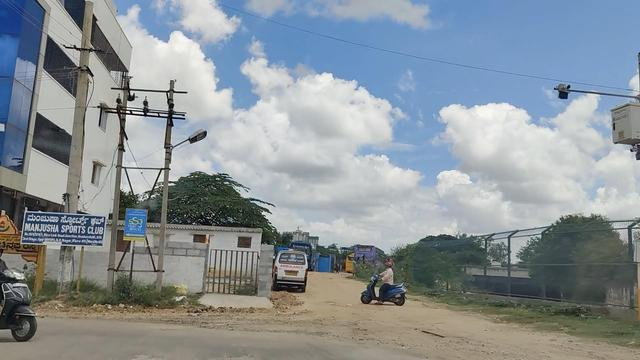LMV: (362, 264, 409, 304), (278, 249, 310, 289)
RoadDamages: (218, 343, 274, 360), (131, 345, 157, 360)
